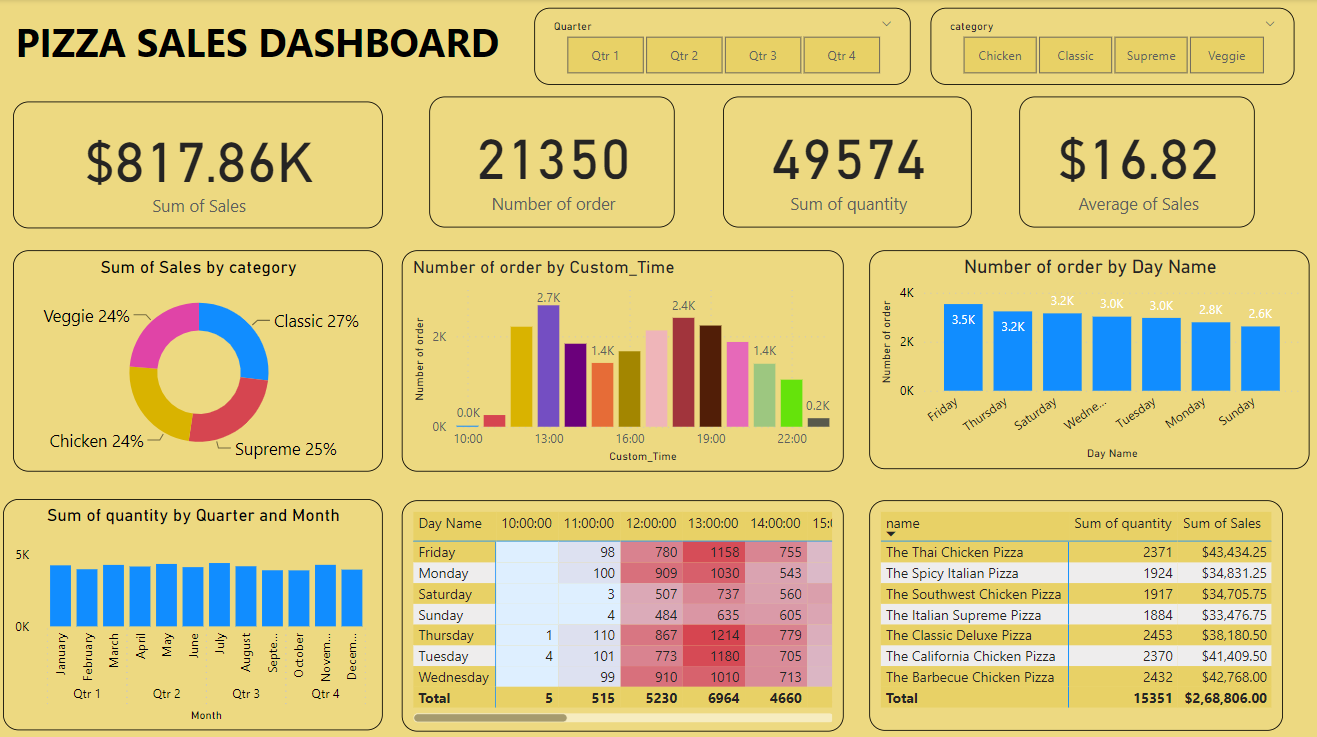

Layout of this report page (visuals, bound fields, positions):
{"tool":"powerbi","page":{"name":"Annual Report","canvas":[1280,720],"ordinal":0},"visuals":[{"type":"clusteredColumnChart","fields":{"Y":["Sum(order_details.quantity)"],"Category":["orders _1.date.Variation.Date Hierarchy.Quarter","orders _1.date.Variation.Date Hierarchy.Month"]},"box":[9.6,482.6,366.1,223.5],"z":0},{"type":"card","fields":{"Values":["Sum(order_details.Sales)"]},"box":[19.2,98.7,356.5,122],"z":1000},{"type":"card","fields":{"Values":["order_details.Number of order"]},"box":[421.4,94.6,237.2,126.1],"z":2000},{"type":"card","fields":{"Values":["Sum(order_details.quantity)"]},"box":[704.3,94.6,239.9,126.1],"z":3000},{"type":"donutChart","fields":{"Category":["pizza_types.category"],"Y":["Sum(order_details.Sales)"]},"box":[19.2,242.7,356.5,213.9],"z":4000},{"type":"columnChart","fields":{"Y":["order_details.Number of order"],"Category":["orders _1.Day Name"]},"box":[845.9,242.7,425,211.1],"z":5000},{"type":"columnChart","fields":{"Y":["order_details.Number of order"],"Category":["orders _1.Custom_Time"]},"box":[394.9,242.7,426.4,213.9],"z":6000},{"type":"pivotTable","fields":{"Rows":["orders _1.Day Name"],"Columns":["orders _1.Custom_Time"],"Values":["CountNonNull(order_details.order_id)"]},"box":[394.9,484,426.4,223.5],"z":7000},{"type":"card","fields":{"Values":["Avg(order_details.Sales)"]},"box":[989.9,94.6,227.6,126.1],"z":8000},{"type":"slicer","fields":{"Values":["pizza_types.category"]},"box":[904.9,8.2,351,74],"z":9000},{"type":"pivotTable","fields":{"Rows":["pizza_types.name"],"Values":["Sum(order_details.quantity)","Sum(order_details.Sales)"]},"box":[845.9,484,399,222.1],"z":10000},{"type":"slicer","fields":{"Values":["orders _1.date.Variation.Date Hierarchy.Quarter"]},"box":[522.4,8.2,363.3,74],"z":11000},{"type":"textbox","box":[0,11,510,71.3],"z":12000}]}

Visuals, with their boxes in screenshot pixels (x1, y1, x2, y2), scaled from the page's 1280x720 canvas onto the 1317x737 screenshot:
clusteredColumnChart - Sum(order_details.quantity) x orders _1.date.Variation.Date Hierarchy.Quarter: (10,494,387,723)
card - Sum(order_details.Sales): (20,101,387,226)
card - order_details.Number of order: (434,97,678,226)
card - Sum(order_details.quantity): (725,97,971,226)
donutChart - pizza_types.category x Sum(order_details.Sales): (20,248,387,467)
columnChart - order_details.Number of order x orders _1.Day Name: (870,248,1308,465)
columnChart - order_details.Number of order x orders _1.Custom_Time: (406,248,845,467)
pivotTable - orders _1.Day Name x orders _1.Custom_Time: (406,495,845,724)
card - Avg(order_details.Sales): (1019,97,1253,226)
slicer - pizza_types.category: (931,8,1292,84)
pivotTable - pizza_types.name x Sum(order_details.quantity): (870,495,1281,723)
slicer - orders _1.date.Variation.Date Hierarchy.Quarter: (538,8,911,84)
textbox: (0,11,525,84)
